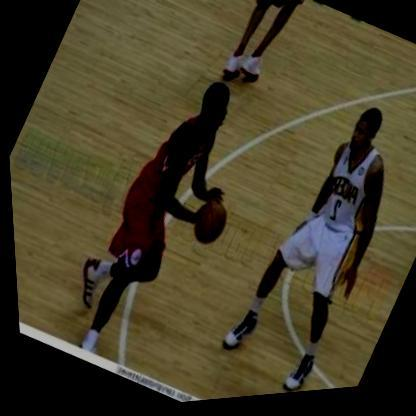basketball: (184, 201, 230, 254)
